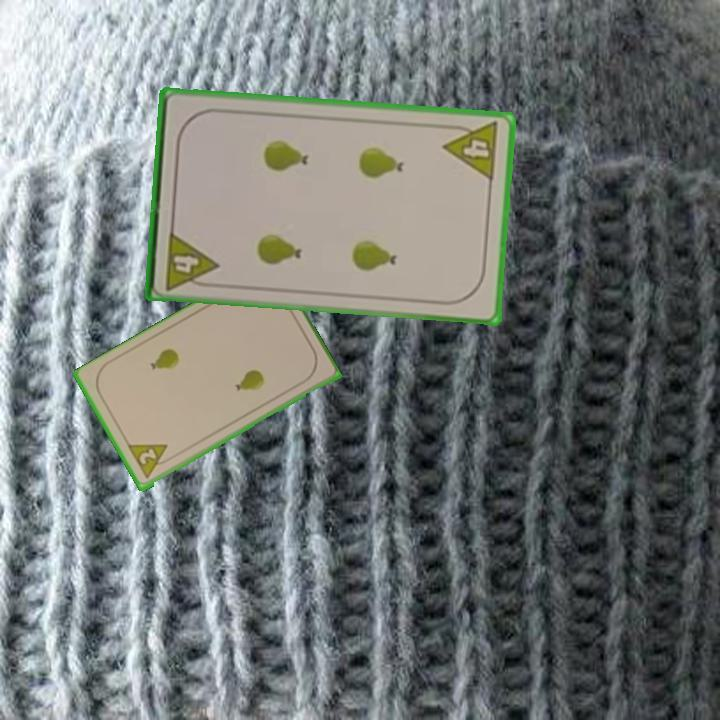2p: (135, 445, 159, 468)
4p: (440, 118, 502, 184), (161, 227, 220, 293)
